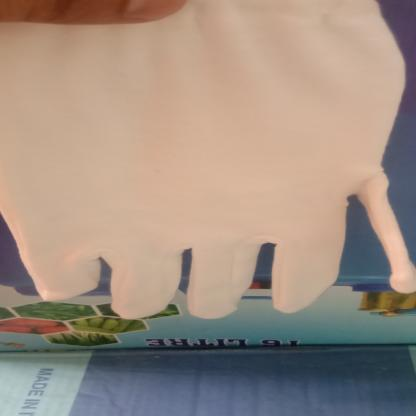gloved_hand: (0, 1, 416, 322)
